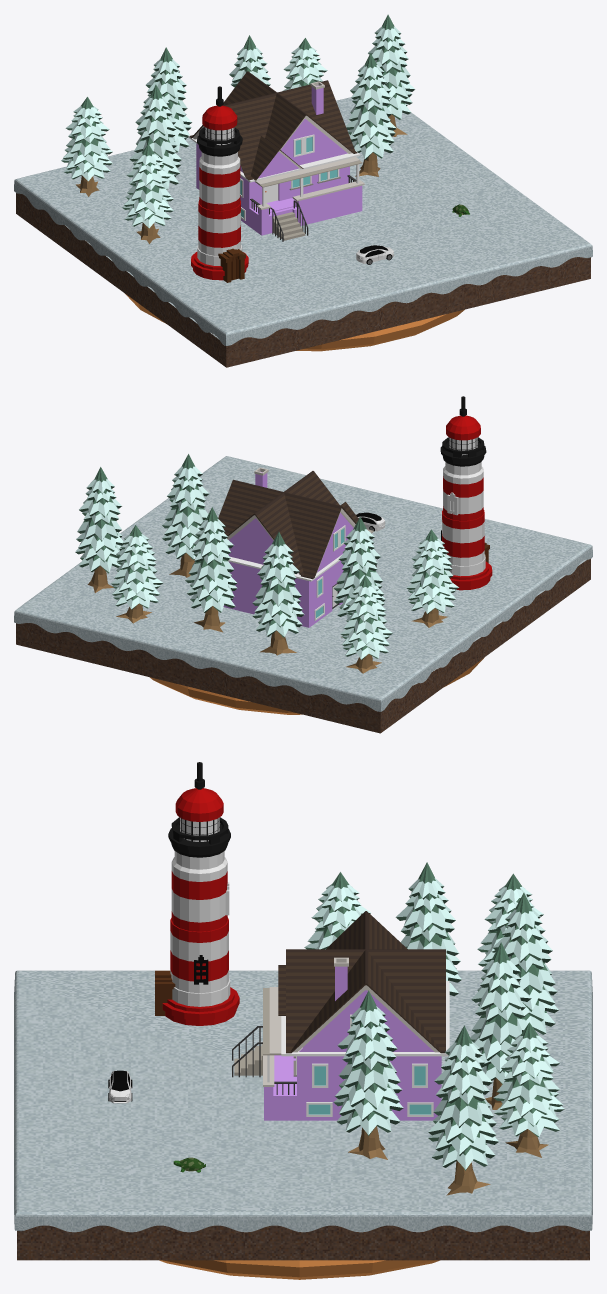
3 views of the same model, one above another, from view 1: azimuth 30°, elevation 25°; view 2: azimuth 150°, elevation 25°; view 3: azimuth 270°, elevation 25° (orthographic). The views are drawn at different scales.
Visible parts, largest first — view 1: Cube.003, Cube.391, OBJRANDOM_LIGHTHOUSE, UNDERGROUND_PIZZA, VEHICLES_TESLA; view 2: Cube.003, Cube.391, OBJRANDOM_LIGHTHOUSE, UNDERGROUND_PIZZA; view 3: Cube.003, Cube.391, OBJRANDOM_LIGHTHOUSE, UNDERGROUND_PIZZA, VEHICLES_TESLA.
Boxes of the visible parts, x1,y1,x2,y2 form: Cube.003: (14,14,592,367); Cube.391: (188,71,364,241); OBJRANDOM_LIGHTHOUSE: (191,86,248,282); UNDERGROUND_PIZZA: (124,293,464,351); VEHICLES_TESLA: (356,245,394,264); Cube.003: (14,454,592,733); Cube.391: (218,467,376,627); OBJRANDOM_LIGHTHOUSE: (440,396,492,590); UNDERGROUND_PIZZA: (150,657,484,714); Cube.003: (14,862,592,1260); Cube.391: (232,911,449,1120); OBJRANDOM_LIGHTHOUSE: (155,762,239,1025); UNDERGROUND_PIZZA: (159,1260,439,1279); VEHICLES_TESLA: (108,1070,132,1103).
Bounding box in the file's own units: 4040 × 2562 × 4040.
42 materials, 3 textured.
